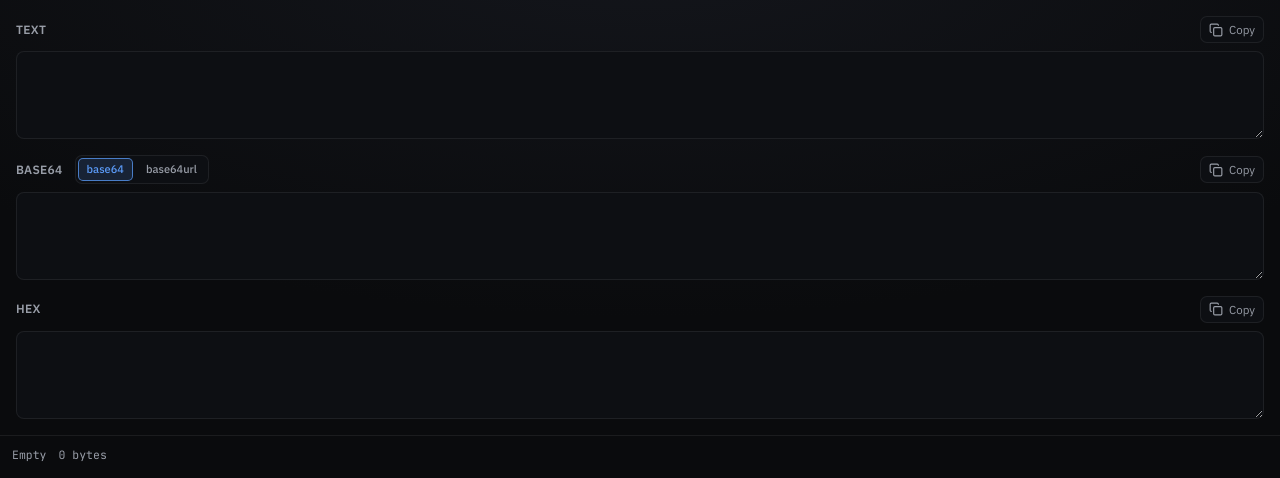
it: Base64Tool › status bar shows byte count and omits the redundant encoding chip
Type "hello" into the text box labelled "Text" at (640, 95), box [16,51,1264,139]
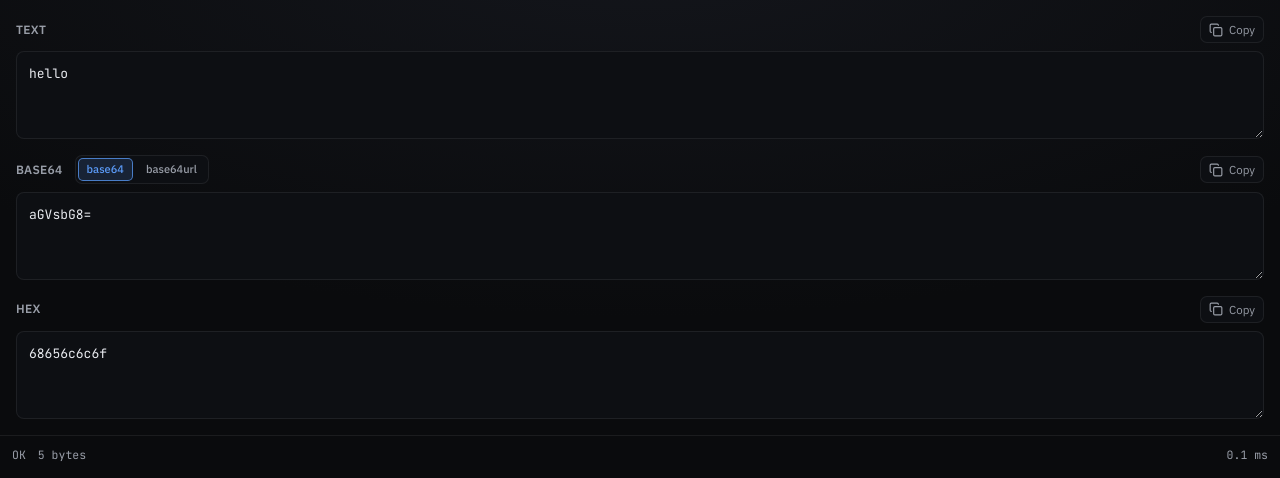
Result: the text named "byte count" reads "5 bytes" at [38,447,86,462]
